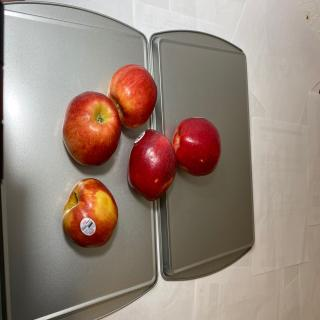Apple: (62, 91, 121, 166), (62, 178, 118, 248), (127, 129, 177, 201), (108, 64, 158, 129), (172, 117, 221, 176)
